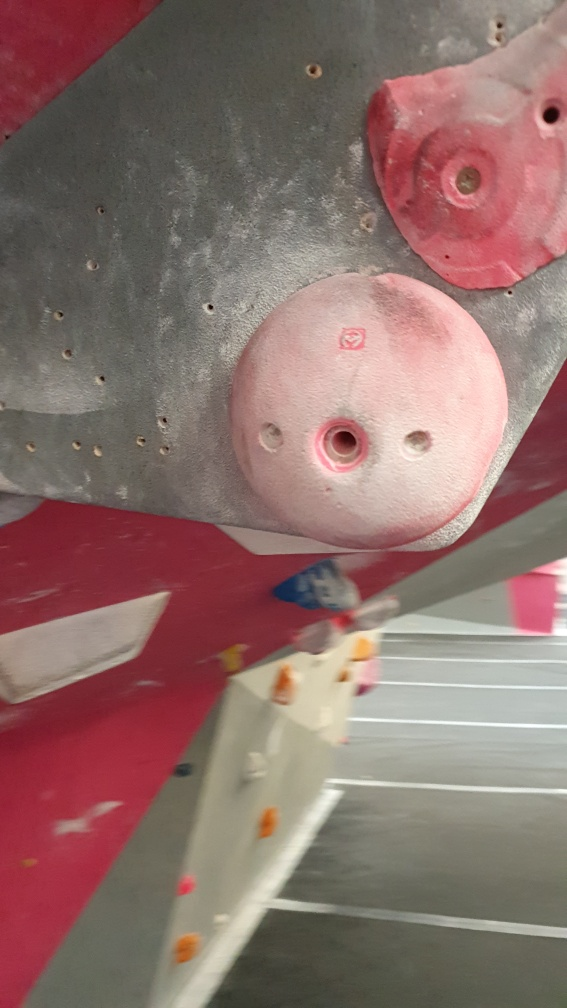Jug: (278, 559, 362, 615)
Pinch: (1, 580, 174, 712)
Sloper: (230, 269, 511, 552)
